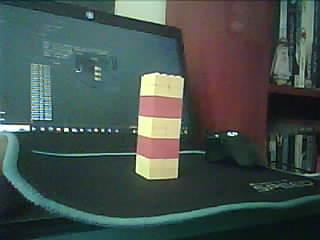lego: (135, 72, 184, 180)
